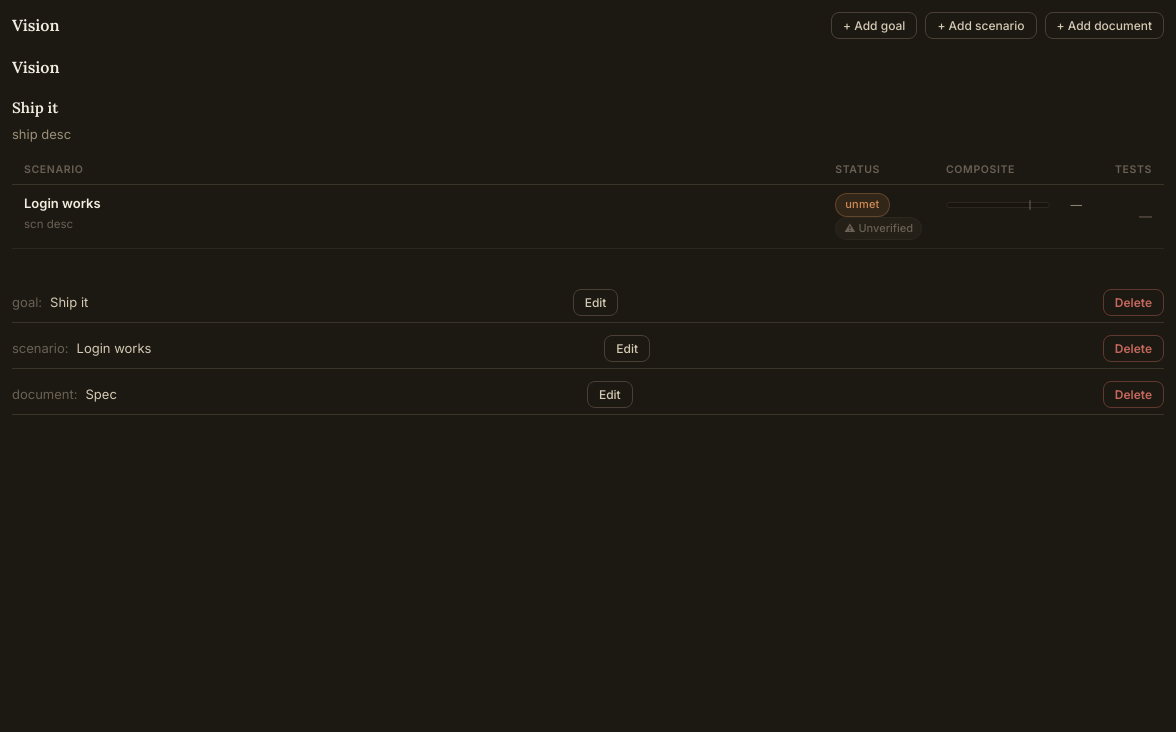
Test case: VisionEditableSection in-place edit › only one edit form is open at a time
Click the button with aria-label "edit goal ship-it": {"x": 596, "y": 302} [573,288,618,316]
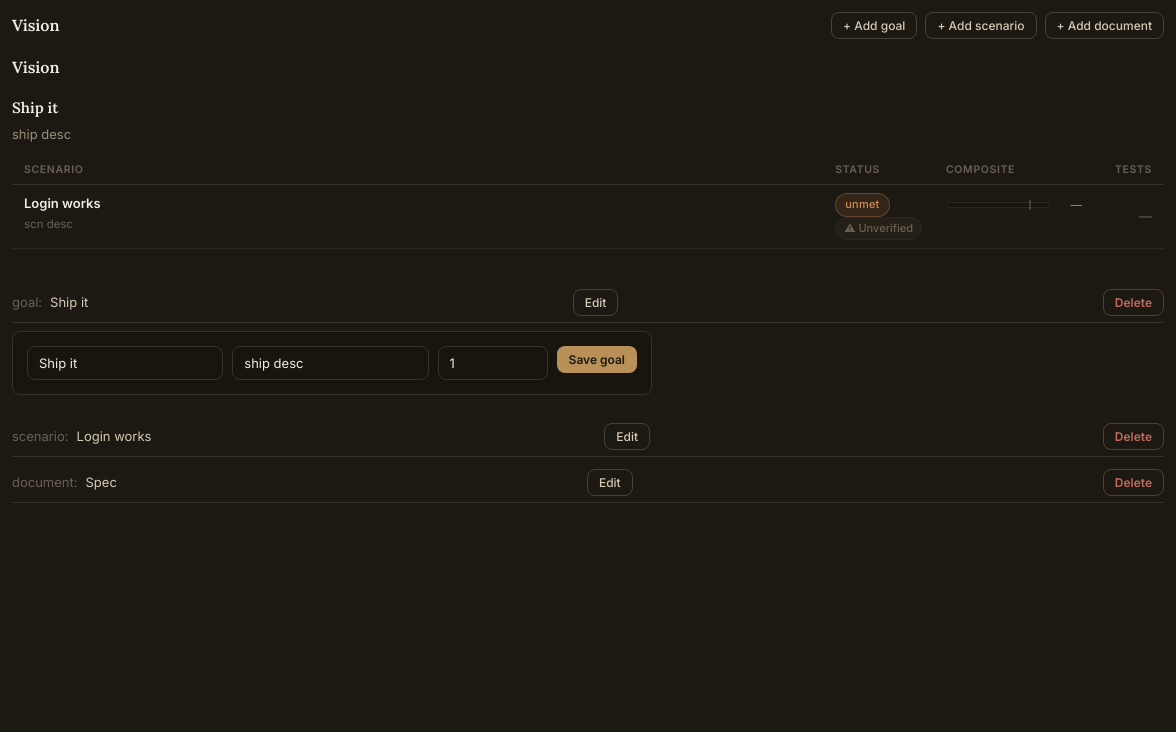
Now the field named "Goal title" is shown, box [27,346,223,380]
Click the button with aria-label "edit document spec": {"x": 610, "y": 482} [587,468,633,496]
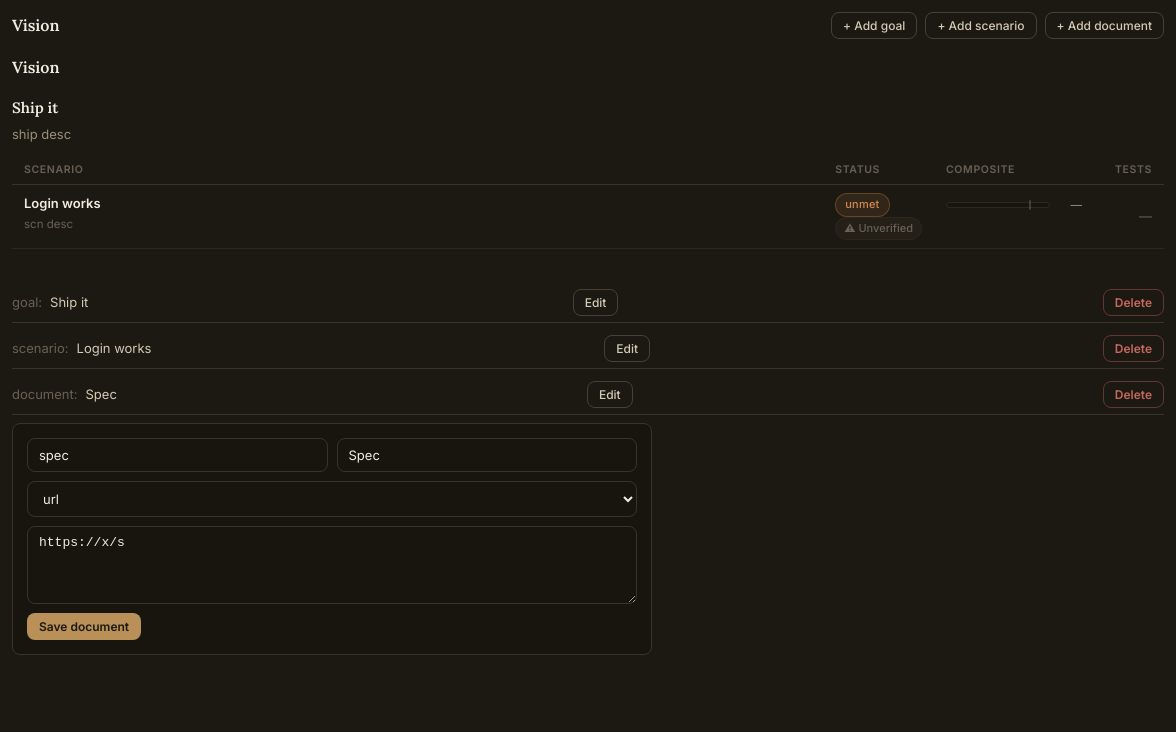
Now the field named "Document title" is shown, box [336,438,637,472]
